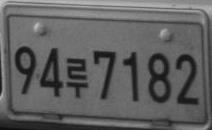1: (121, 50, 145, 102)
2: (174, 52, 199, 104)
4: (39, 47, 63, 97)
7: (92, 50, 116, 99)
8: (146, 51, 172, 103)
9: (13, 45, 36, 94)
루: (65, 57, 89, 98)
